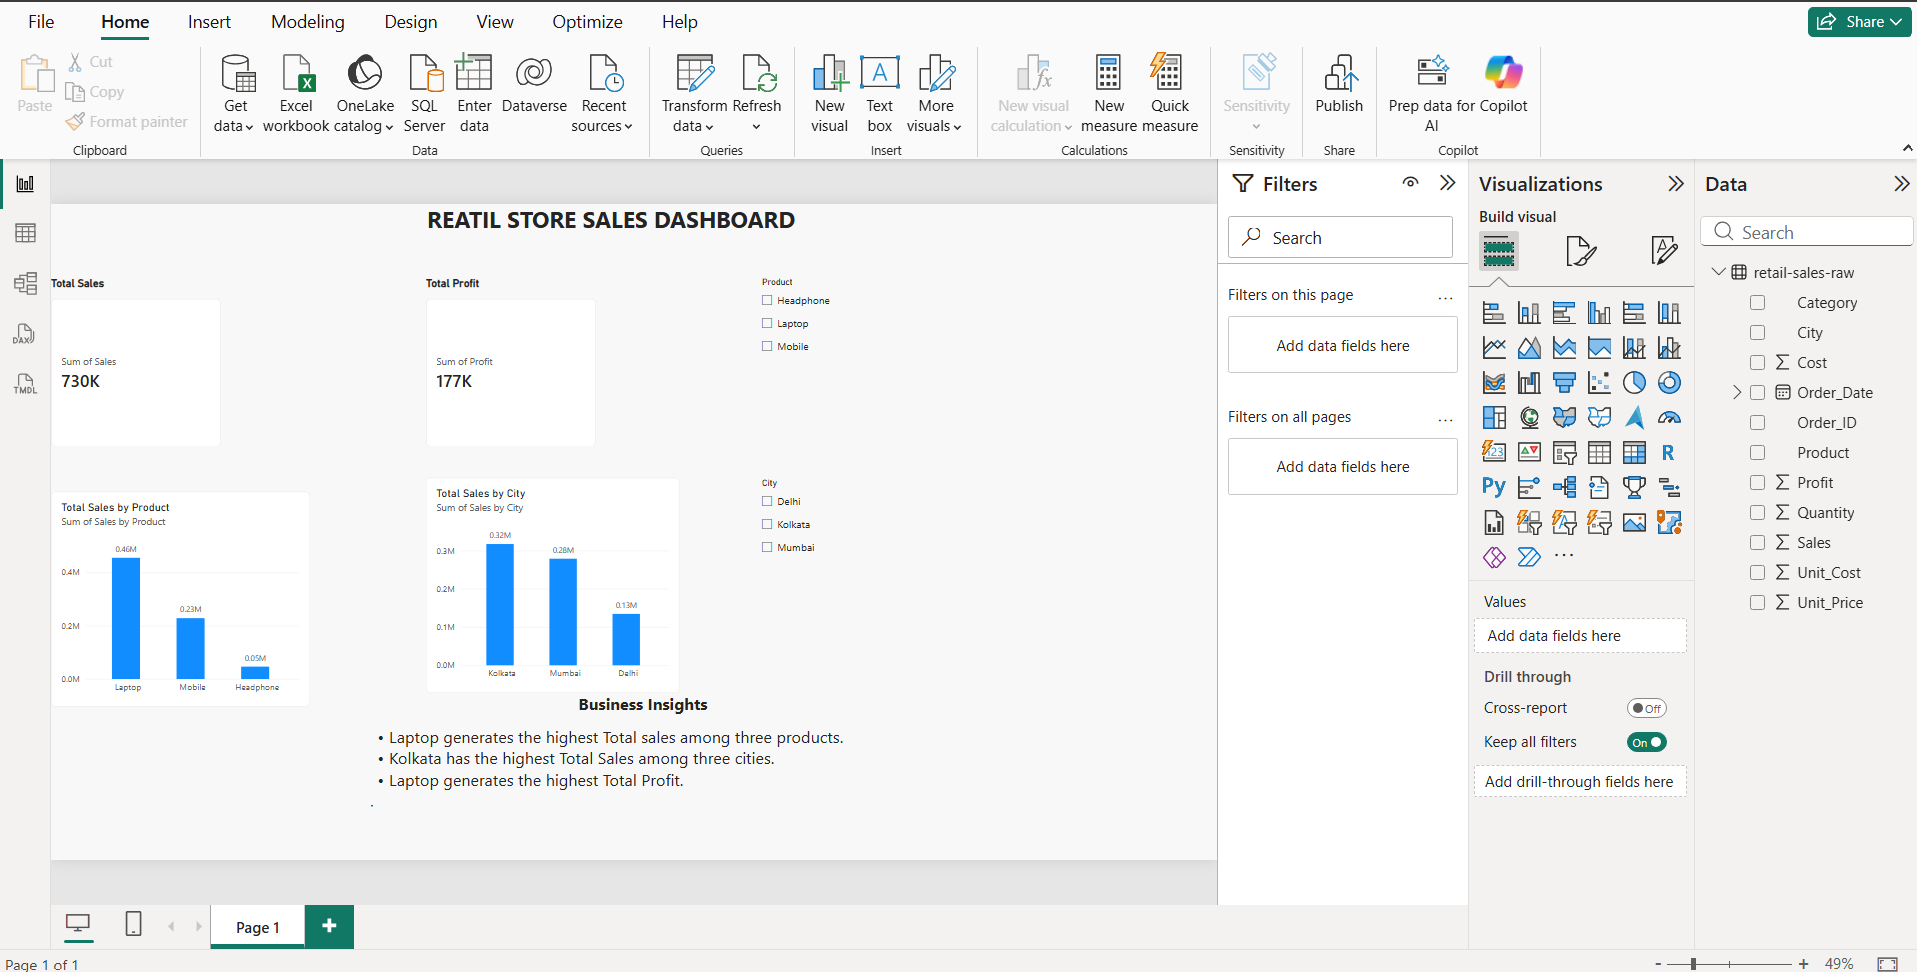

This screenshot's page, from the dashboard's own definition file:
{"tool":"powerbi","page":{"name":"Page 1","canvas":[1920,1080],"ordinal":0},"visuals":[{"type":"cardVisual","title":"Total Sales","fields":{"Data":["Sum(retail-sales-raw.Sales)"]},"box":[0,119.4,280,280],"z":0},{"type":"cardVisual","title":"Total Profit","fields":{"Data":["Sum(retail-sales-raw.Profit)"]},"box":[617.5,119.4,280,280],"z":1},{"type":"clusteredColumnChart","title":"Total Sales by Product","fields":{"Category":["retail-sales-raw.Product"],"Y":["Sum(retail-sales-raw.Sales)"]},"box":[0,473.4,426.1,354],"z":2},{"type":"clusteredColumnChart","title":"Total Sales by City","fields":{"Category":["retail-sales-raw.City"],"Y":["Sum(retail-sales-raw.Sales)"]},"box":[617.5,450.8,417.8,354],"z":3},{"type":"slicer","fields":{"Values":["retail-sales-raw.Product"]},"box":[1163,119.4,317,279.9],"z":4},{"type":"slicer","fields":{"Values":["retail-sales-raw.City"]},"box":[1163,450.8,317,288.2],"z":5},{"type":"textbox","box":[426.1,0,992.1,102.9],"z":6},{"type":"textbox","box":[516.6,804.8,916,251.1],"z":7}]}

Visuals, with their boxes on the page's 1920x1080 design canvas (x1, y1, x2, y2). These are canvas units, not pixel positions in the 1917x972 screenshot, which may show the page scaled, cropped or inside an application window:
"Total Sales" cardVisual: <box>0,119,280,399</box>
"Total Profit" cardVisual: <box>618,119,898,399</box>
"Total Sales by Product" clusteredColumnChart: <box>0,473,426,827</box>
"Total Sales by City" clusteredColumnChart: <box>618,451,1035,805</box>
slicer - retail-sales-raw.Product: <box>1163,119,1480,399</box>
slicer - retail-sales-raw.City: <box>1163,451,1480,739</box>
textbox: <box>426,0,1418,103</box>
textbox: <box>517,805,1433,1056</box>
